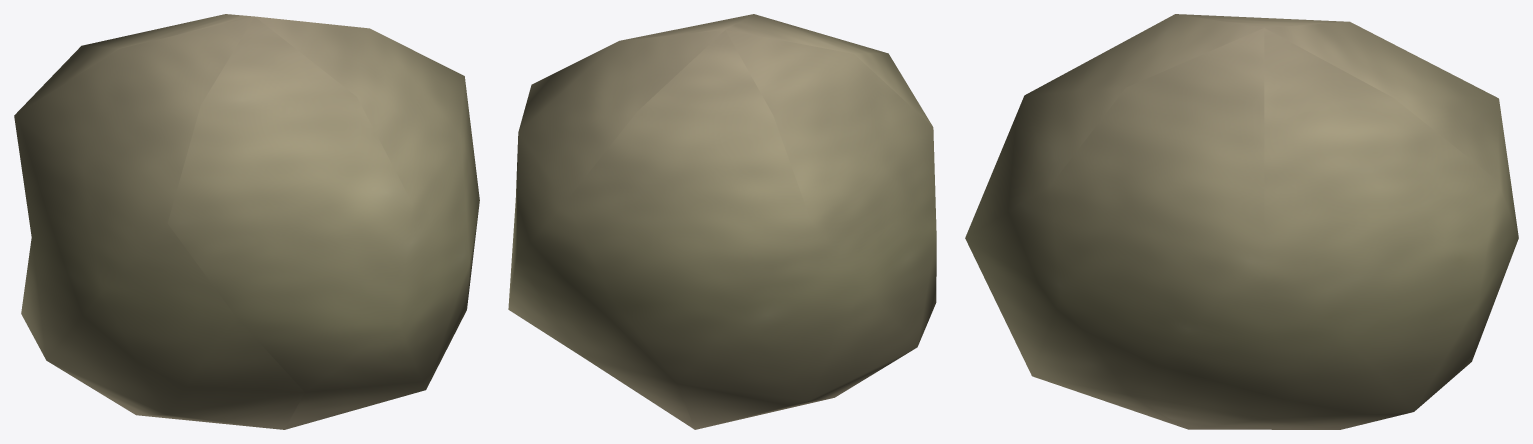
File: nature_boulder.2.glb
3 views of the same model, side by side, from view 1: azimuth 30°, elevation 25°; view 2: azimuth 150°, elevation 25°; view 3: azimuth 270°, elevation 25° (orthographic). The views are drawn at different scales.
Parts seen in each view (by area): view 1: nature_boulder.2; view 2: nature_boulder.2; view 3: nature_boulder.2.
Boxes of the visible parts, x1=… form: nature_boulder.2: x1=14, y1=14, x2=479, y2=429; nature_boulder.2: x1=508, y1=14, x2=936, y2=429; nature_boulder.2: x1=965, y1=14, x2=1518, y2=429.
Size of the model in its own units: 0.8293 by 0.7096 by 0.9152.
Materials: 1 (1 with a texture image).
